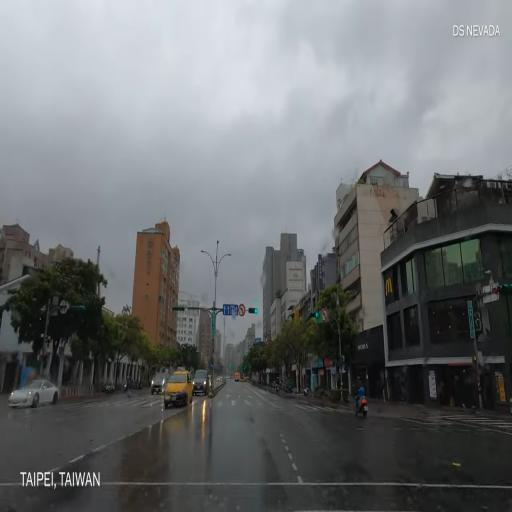Car: (8, 377, 58, 408), (163, 370, 193, 408), (149, 371, 167, 395), (192, 370, 209, 395), (234, 370, 240, 382)
